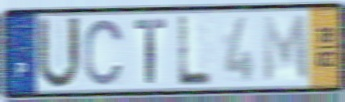4: (222, 13, 259, 86)
C: (83, 17, 126, 88)
L: (176, 14, 215, 88)
M: (261, 12, 311, 85)
T: (133, 17, 168, 86)
U: (35, 14, 83, 93)
